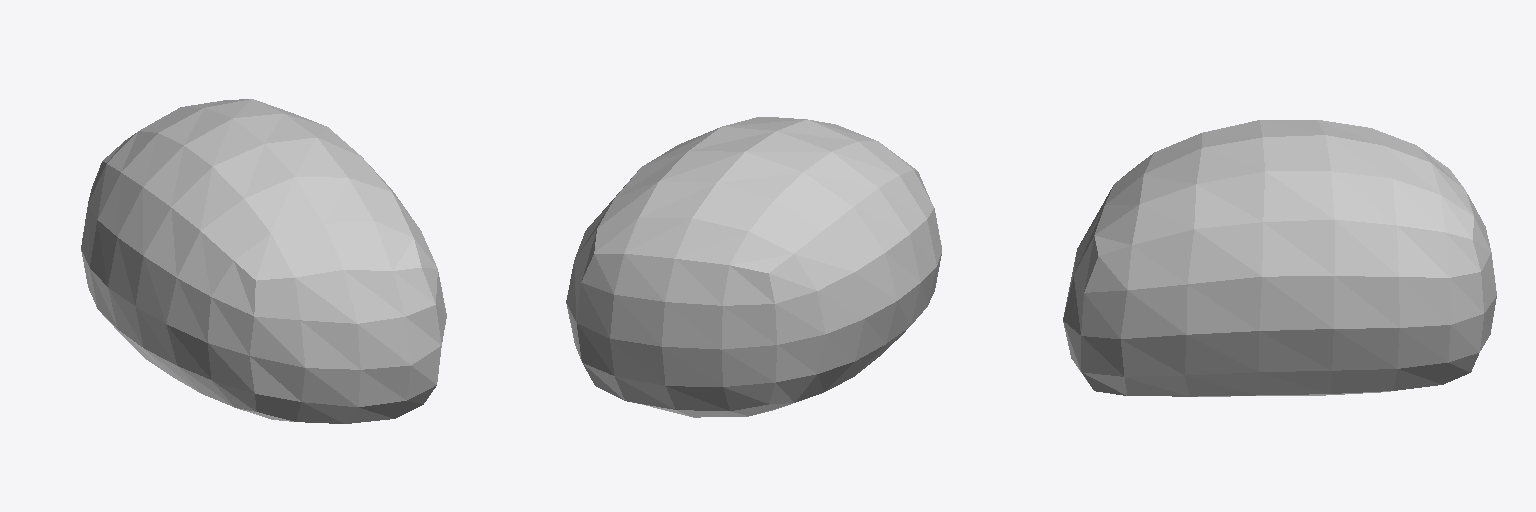
The model's file is DROPLET.mtl.mtl.obj.
3 renders of one model, left to right at view 1: azimuth 30°, elevation 25°; view 2: azimuth 150°, elevation 25°; view 3: azimuth 270°, elevation 25°, orthographic.
Parts seen in each view (by area): view 1: Cube.003; view 2: Cube.003; view 3: Cube.003.
Boxes of the visible parts, x1=… form: Cube.003: x1=81, y1=99, x2=446, y2=423; Cube.003: x1=566, y1=117, x2=941, y2=417; Cube.003: x1=1063, y1=120, x2=1496, y2=396.
Size of the model in its own units: 0.1045 by 0.087 by 0.1415.